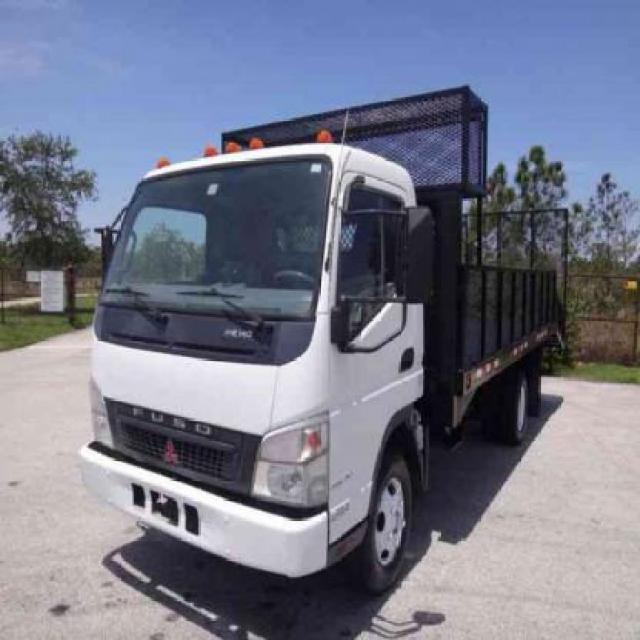truck: (77, 84, 562, 587)
